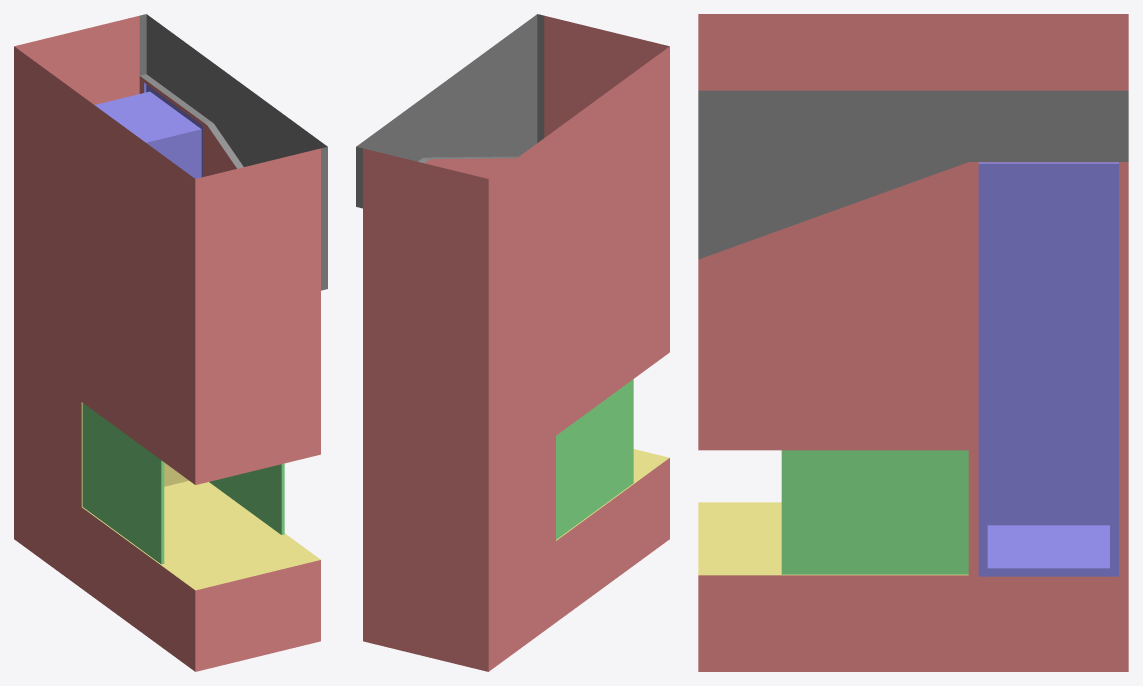
The model's file is camino.fbx.
3 renders of one model, left to right at view 1: azimuth 30°, elevation 25°; view 2: azimuth 150°, elevation 25°; view 3: azimuth 270°, elevation 25°, orthographic. The views are drawn at different scales.
Parts seen in each view (by area): view 1: camino:camino1:corpo; view 2: camino:camino1:corpo; view 3: camino:camino1:corpo.
Part boxes in pixels (left/top/right/bottom): camino:camino1:corpo: left=14, top=14, right=327, bottom=671; camino:camino1:corpo: left=356, top=14, right=669, bottom=671; camino:camino1:corpo: left=698, top=14, right=1128, bottom=671.
Bounding box in the file's own units: 84.3 × 300 × 200.
